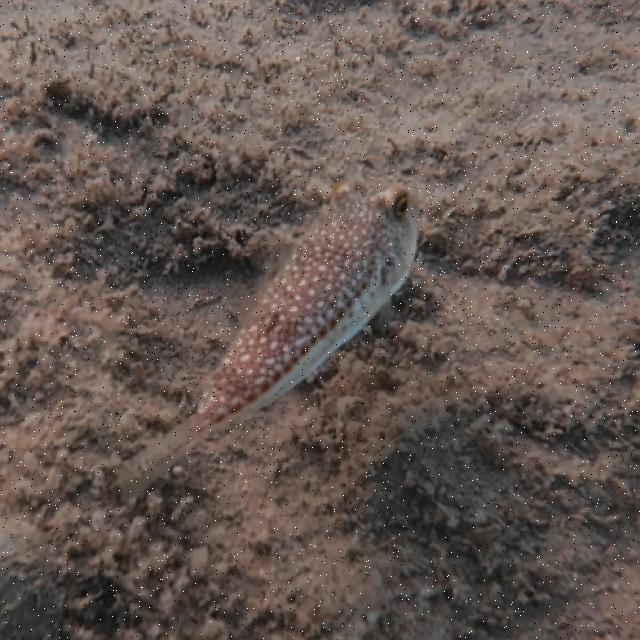Balik: (119, 185, 417, 500)
